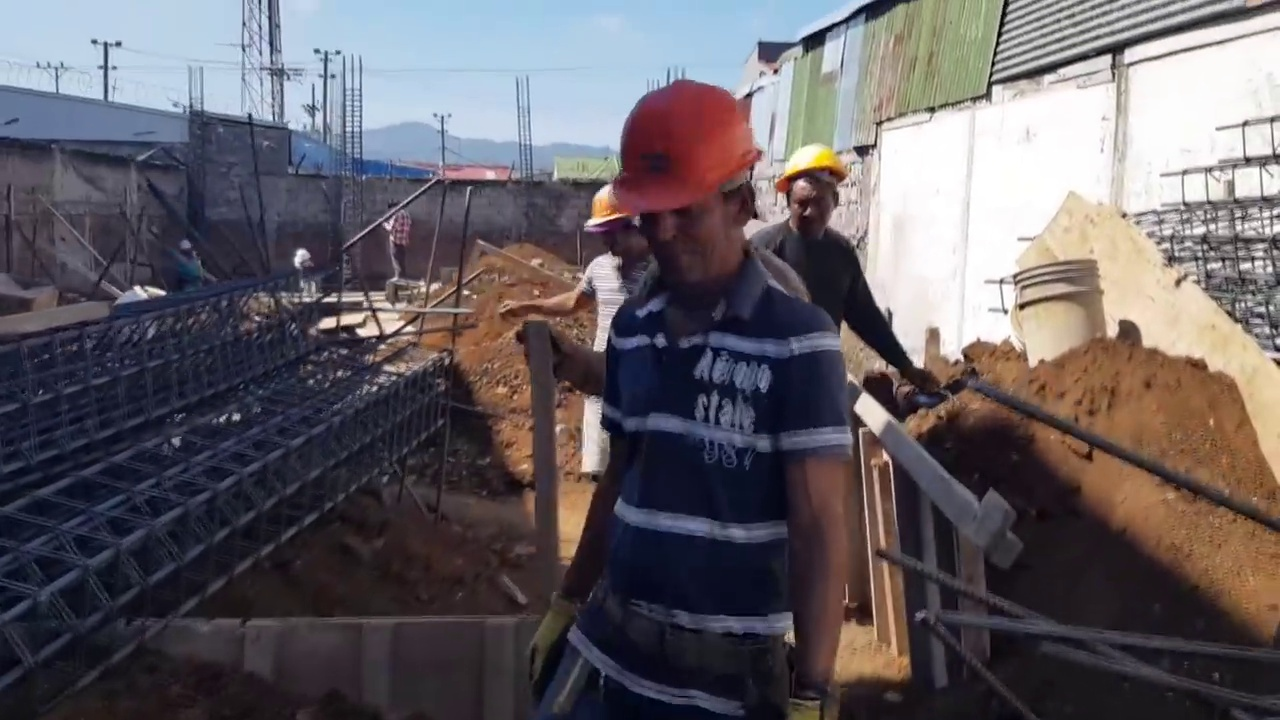helmet: (610, 76, 763, 215), (777, 143, 849, 192), (583, 184, 643, 230), (179, 240, 192, 249)
helmet-off: (386, 196, 405, 212)
helmet-on: (610, 77, 765, 291), (773, 144, 850, 239), (583, 184, 645, 261), (178, 237, 193, 256)
person: (518, 80, 858, 718), (750, 142, 950, 577), (501, 177, 646, 478), (379, 195, 411, 283), (172, 237, 203, 293), (292, 252, 314, 291)
